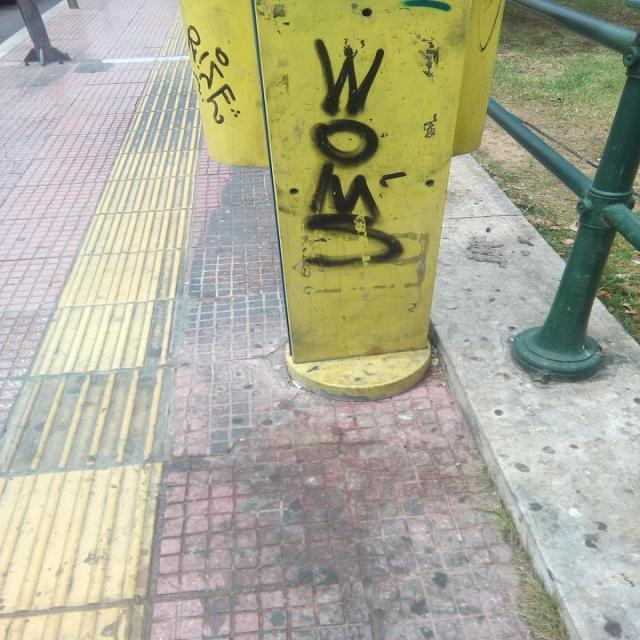nonspitting: (302, 39, 403, 270), (188, 24, 241, 126)
